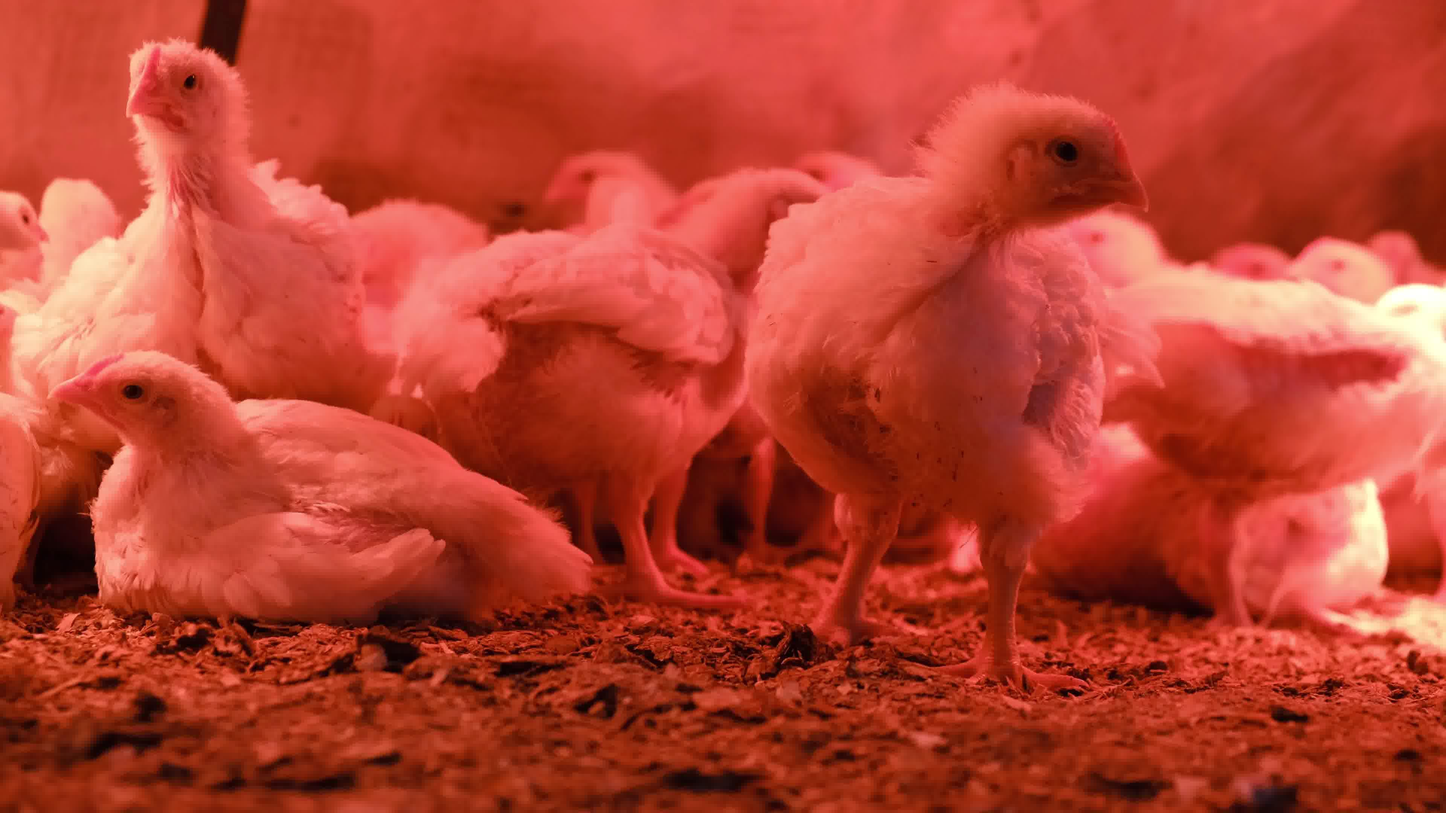AbNormal: (45, 351, 599, 620), (1155, 475, 1397, 617)
Normal: (751, 89, 1151, 693), (408, 166, 829, 604), (1088, 281, 1446, 637), (27, 38, 366, 402), (542, 145, 674, 244), (37, 174, 123, 291), (1287, 237, 1405, 309), (0, 181, 49, 348), (1070, 207, 1171, 283)
